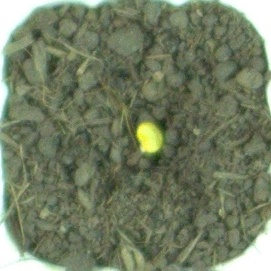chilli seed: (133, 119, 167, 155)
